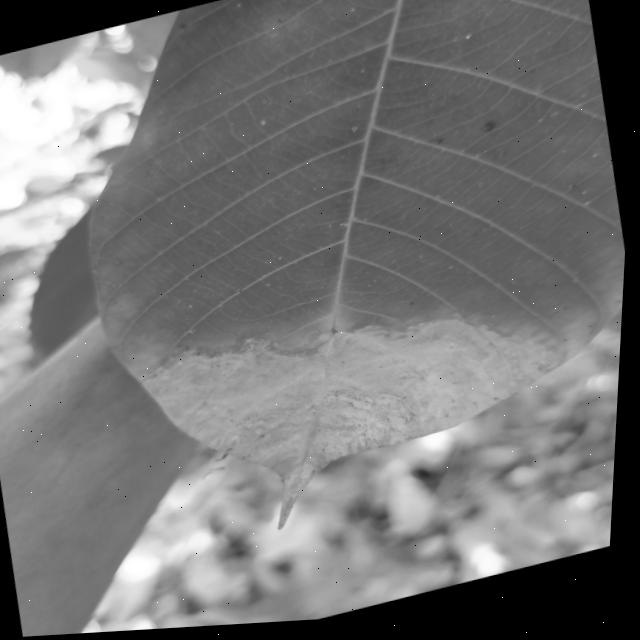Leaf-Blight: (128, 263, 580, 564)
